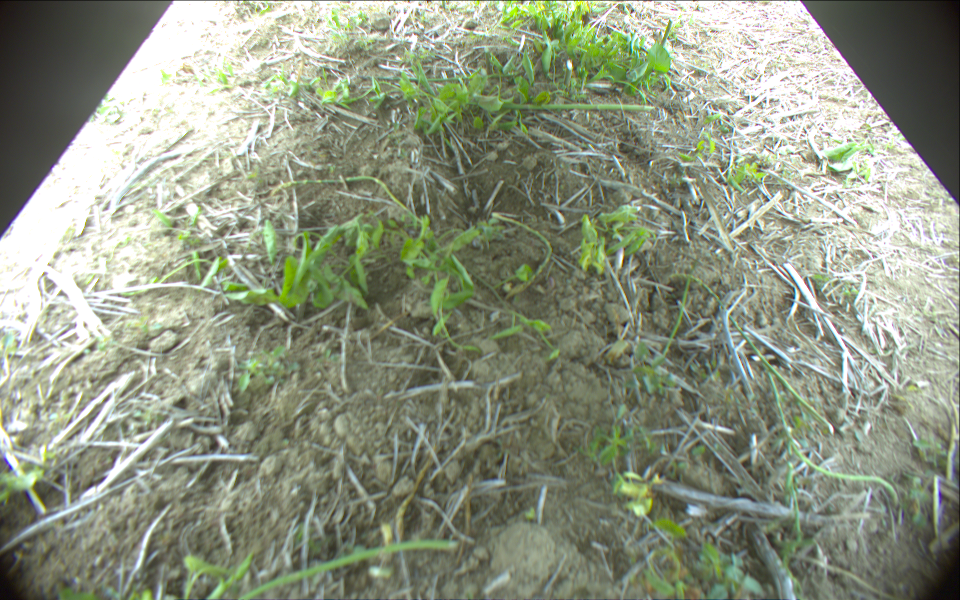aspa: (669, 269, 836, 436), (767, 374, 898, 509), (219, 539, 463, 600), (269, 174, 431, 225), (492, 209, 555, 297), (470, 93, 656, 114), (658, 20, 671, 46)
